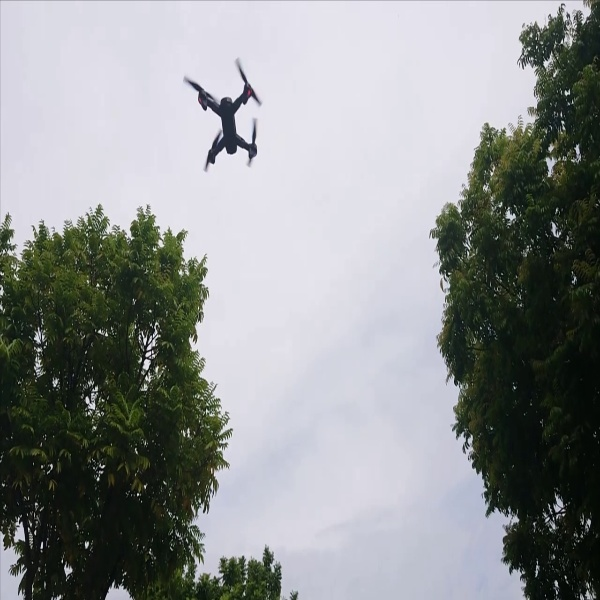drone: (168, 57, 276, 175)
